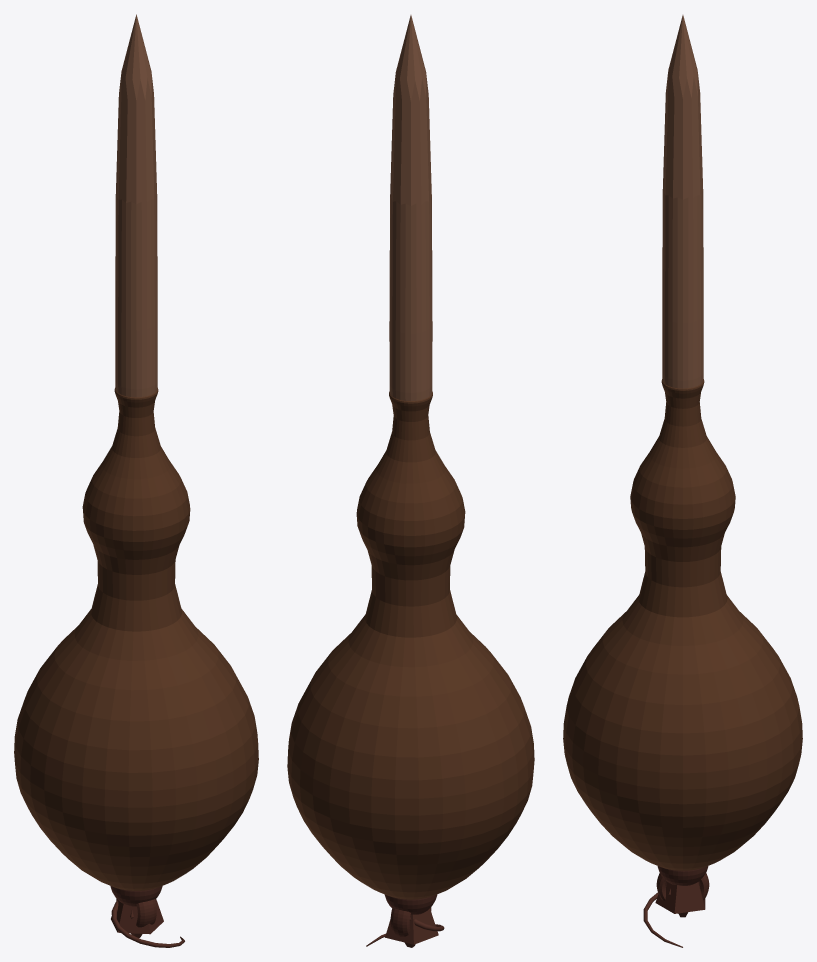
The model's file is Wand 604.glb.
The picture shows the model from 3 angles, left to right: view 1: azimuth 30°, elevation 25°; view 2: azimuth 150°, elevation 25°; view 3: azimuth 270°, elevation 25°; orthographic projection. The views are drawn at different scales.
Parts seen in each view (by area): view 1: GeneratedWand, Pommel_9, Pommel_4; view 2: GeneratedWand, Pommel_9, Pommel_4; view 3: GeneratedWand, Pommel_9, Pommel_4.
Boxes of the visible parts, x1,y1,x2,y2 form: GeneratedWand: (14,14,258,890); Pommel_9: (111,899,163,934); Pommel_4: (110,886,162,906); GeneratedWand: (287,15,534,899); Pommel_9: (385,908,438,944); Pommel_4: (384,894,437,914); GeneratedWand: (563,15,802,870); Pommel_9: (655,882,705,913); Pommel_4: (657,866,708,885).
Size of the model in its own units: 0.123 by 0.5167 by 0.123.
